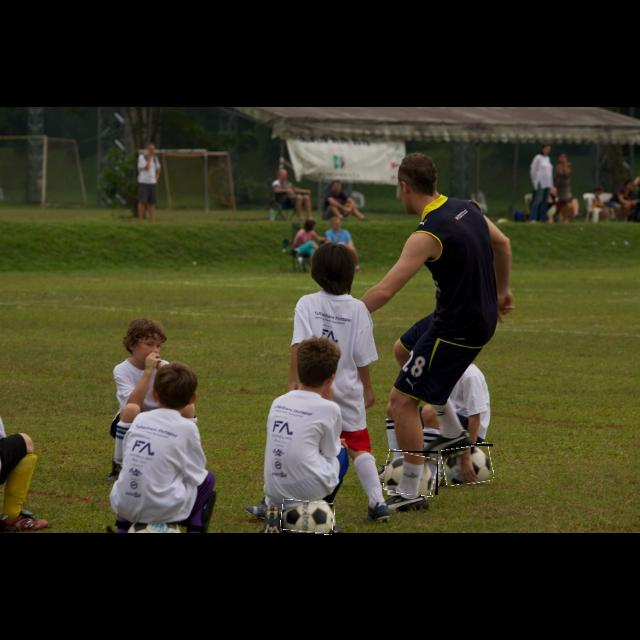Football: (384, 451, 438, 495), (443, 444, 493, 484), (282, 500, 334, 534)
